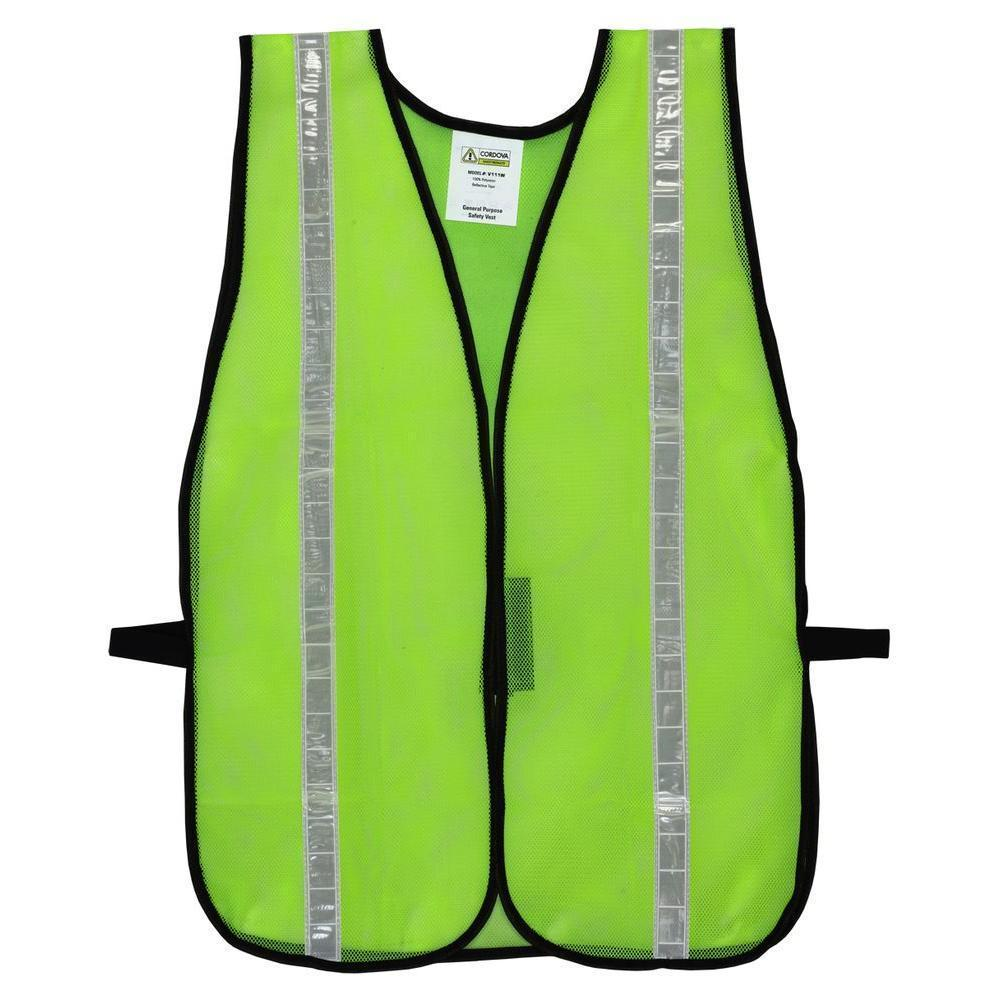vest: (177, 22, 822, 972)
